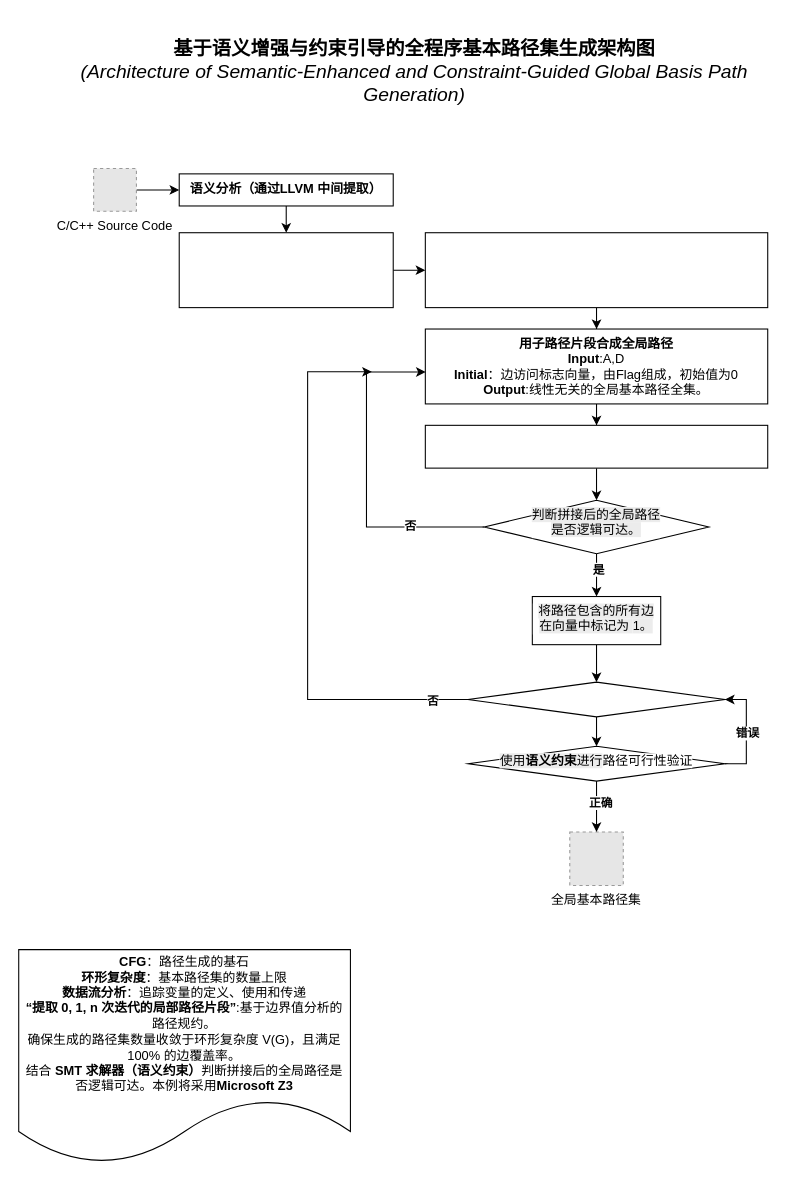
Some shapes in this 786 by 1182 pixel diagram are drawn without their labels. Grey dashed boxes stand in for pictures. Here are the shapes that lost their labels. From the top down, the centre of each, then its label:
the point at 285,270: 静态分析 A. 构建全局CFG B. 计算程序的环形 复杂度 V(G) C.数据流分析
the point at 596,270: 子路径片段提取 Input:C Output: D.提取循环体内部的 0/1/ n 次迭代对应的 局部路径片段
the point at 596,446: 利用 DFS 寻找包含 Flag=0 边的路径。 遇到循环点时，依次调取 D 中的 0、1、 n 片段进行拼接。
the point at 596,699: 检查是否所有边均已访问
